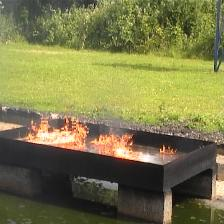fire: (30, 123, 90, 145), (102, 133, 133, 158)
